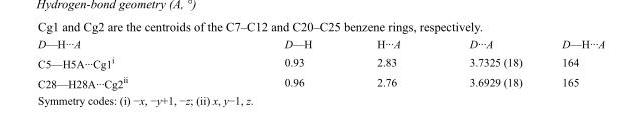table: (37, 37, 604, 89)
table column: (37, 37, 205, 89), (205, 37, 343, 89), (434, 37, 541, 89), (343, 37, 434, 89), (541, 37, 604, 89)
table row: (37, 52, 604, 71), (37, 71, 604, 89), (37, 37, 604, 52)
